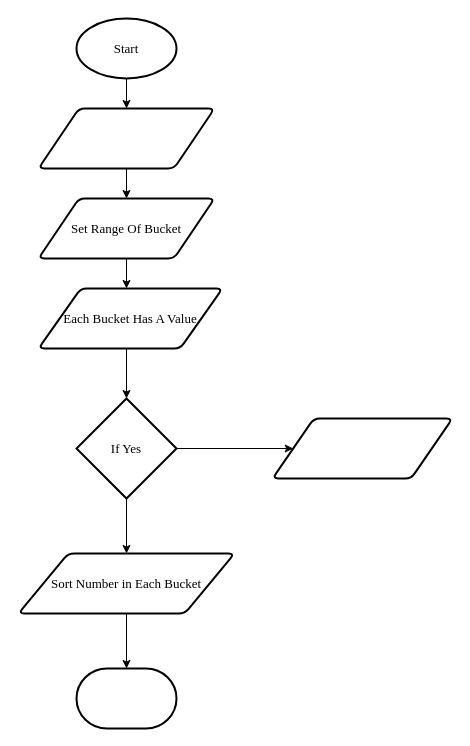
Some shapes in this 470 by 746 pixel diagram are drawn without their labels. The shapes that lost their labels are listed below. From the top down, each one's centre as x and y in pixels, then its label:
At pixel 126 138: "Input Intergers".
At pixel 362 448: "Check in Other Bucket".
At pixel 126 698: "End".
